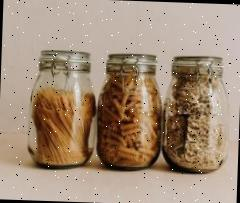glass: (26, 49, 233, 175)
